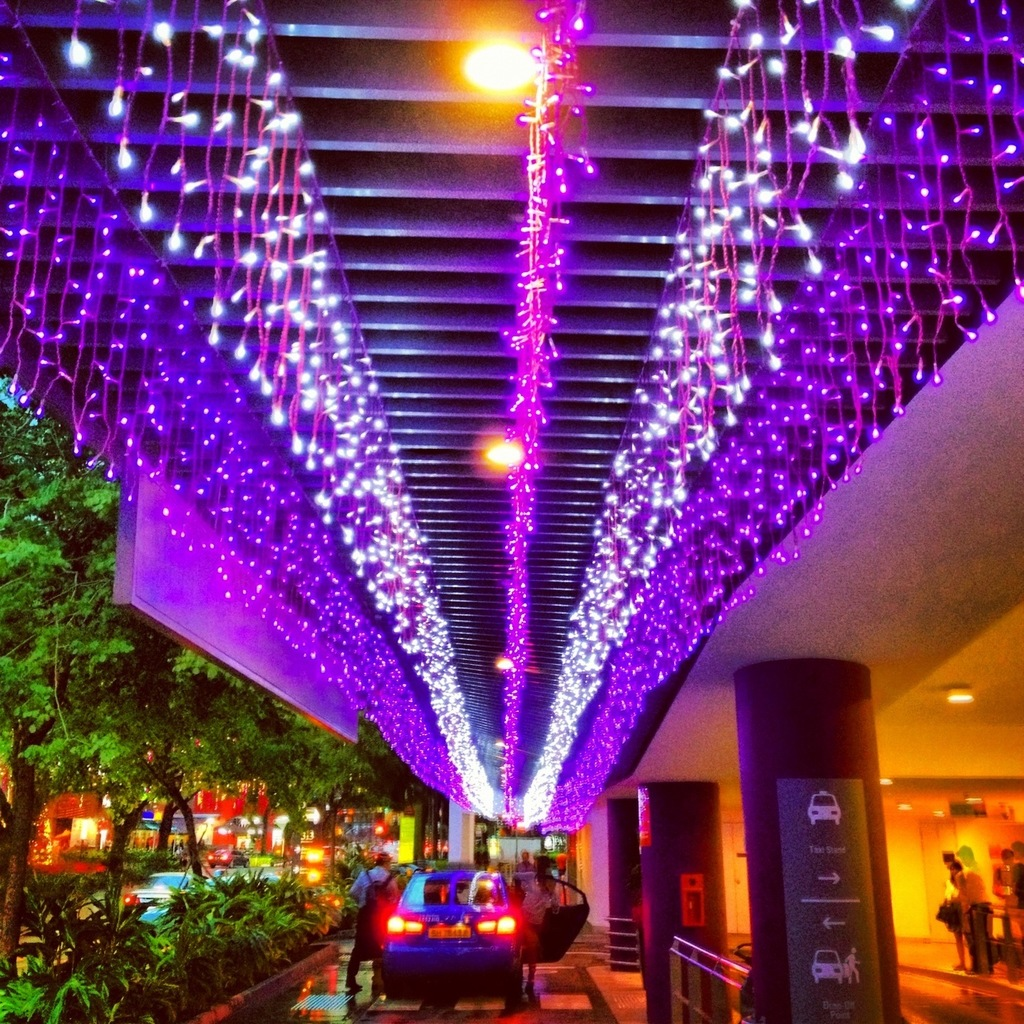cars: (353, 883, 556, 1007), (367, 861, 484, 937), (121, 869, 198, 924), (205, 847, 251, 869)
